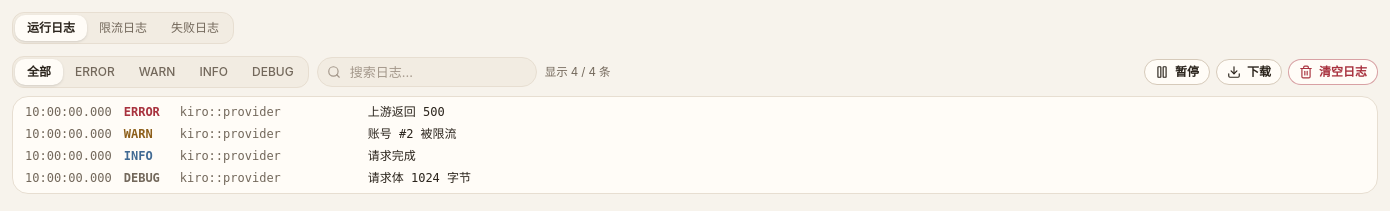
Scenario: filters by minimum level so errors stay visible when showing warnings
Click the button with aria-label "WARN 及以上". click: point(157, 72)
box: [127,59,188,85]
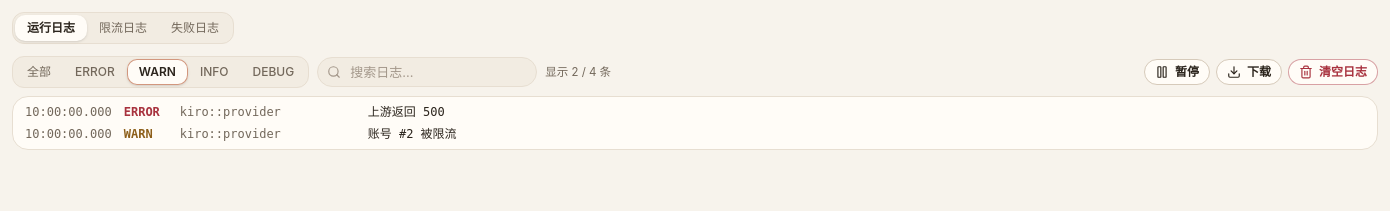
expect the text "显示 2 / 4 条" is shown: met, box [545,64,611,80]
Click the button with aria-label "INFO 及以上". click: point(214, 72)
box: [188,59,240,85]
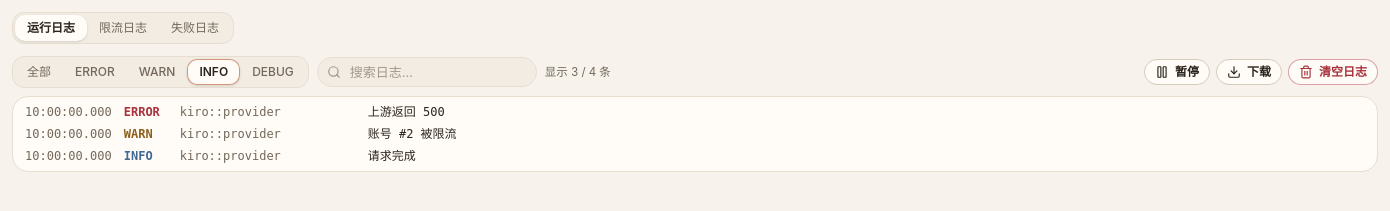
expect the text "显示 3 / 4 条" is shown: met, box [545,64,611,80]
